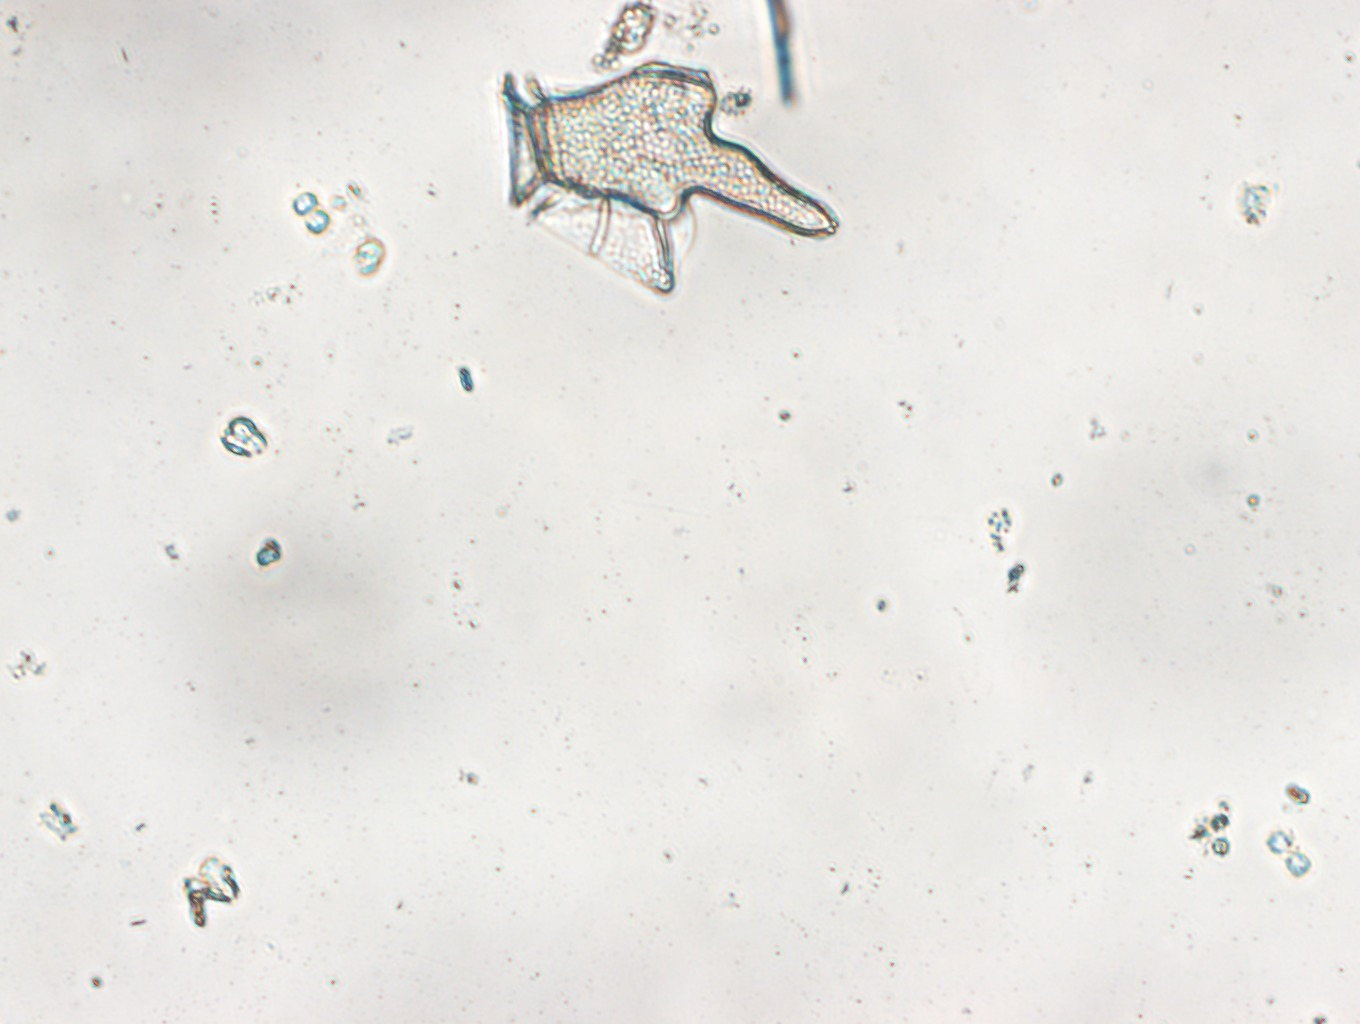dinophysis caudata: (485, 59, 844, 298)
